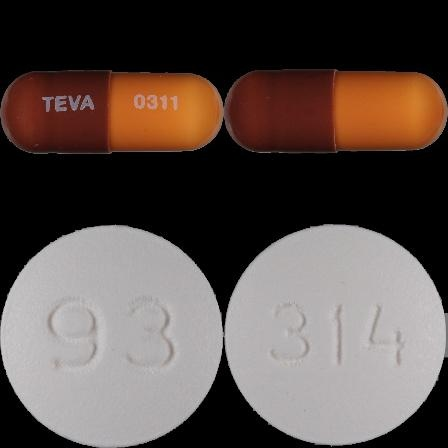0093-0311: (0, 0, 224, 224)
